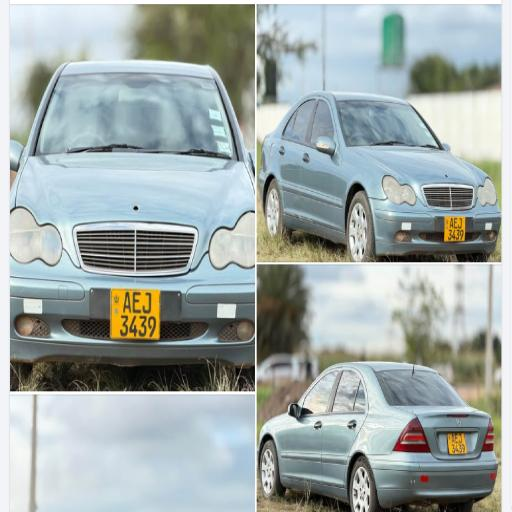number-plates: (111, 288, 158, 338), (447, 428, 471, 456)
